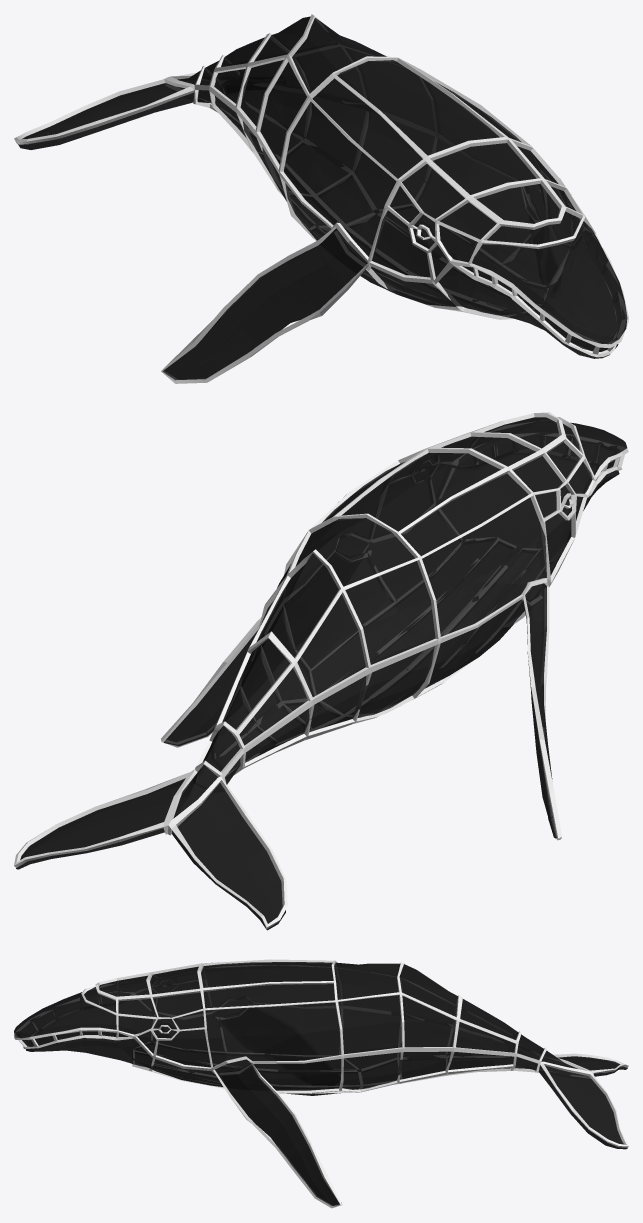
Rendered from pm-caio-whale-01.glb.
The picture shows the model from 3 angles, top to bottom: view 1: azimuth 30°, elevation 25°; view 2: azimuth 150°, elevation 25°; view 3: azimuth 270°, elevation 25°; orthographic projection. The views are drawn at different scales.
Visible parts, largest first — view 1: CAIO_Whale_01; view 2: CAIO_Whale_01; view 3: CAIO_Whale_01.
Part boxes in pixels (left/top/right/bottom): CAIO_Whale_01: left=14, top=14, right=628, bottom=383; CAIO_Whale_01: left=14, top=412, right=628, bottom=930; CAIO_Whale_01: left=14, top=959, right=628, bottom=1208.
Bounding box in the file's own units: 10.62 × 7.16 × 21.57.
Materials: 1 (1 with a texture image).
